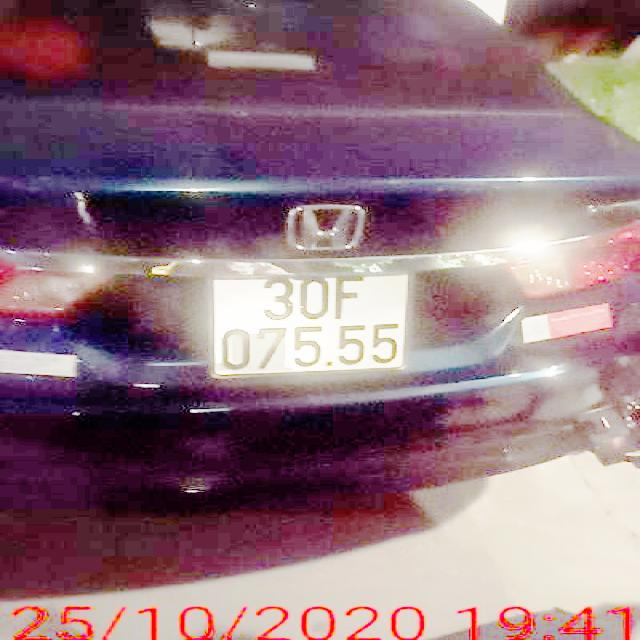license_plate: (217, 276, 413, 376)
